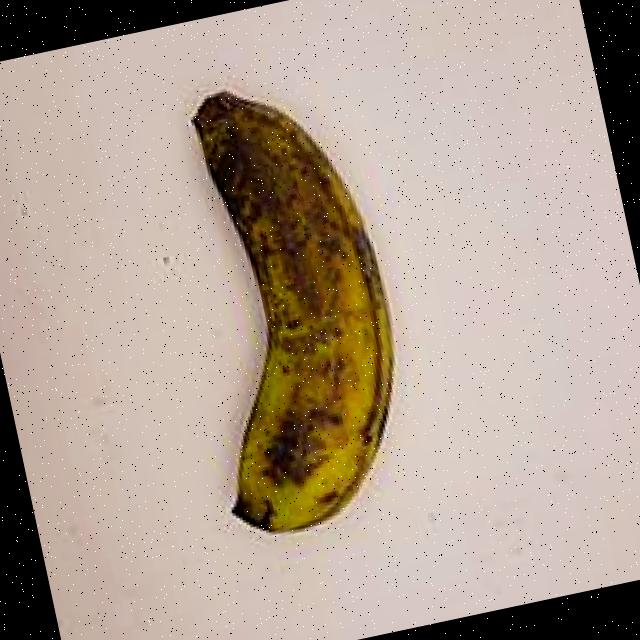Overripe: (114, 32, 458, 572)
